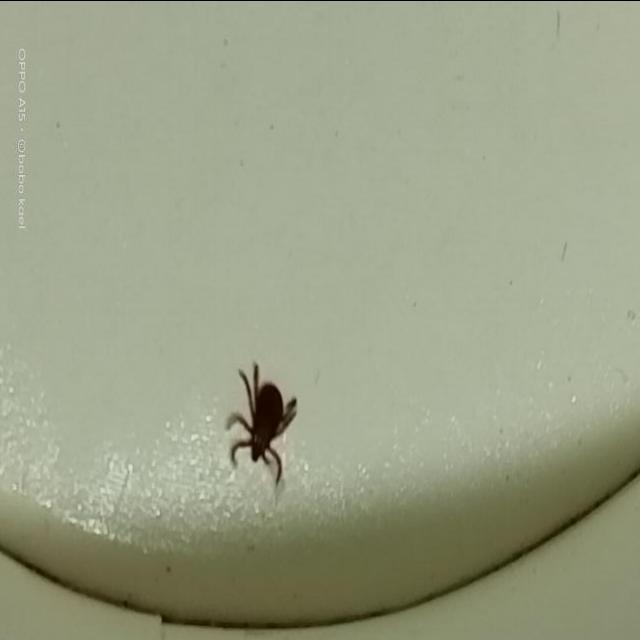Rhipicephalus Sanguineus-M: (224, 359, 297, 488)
